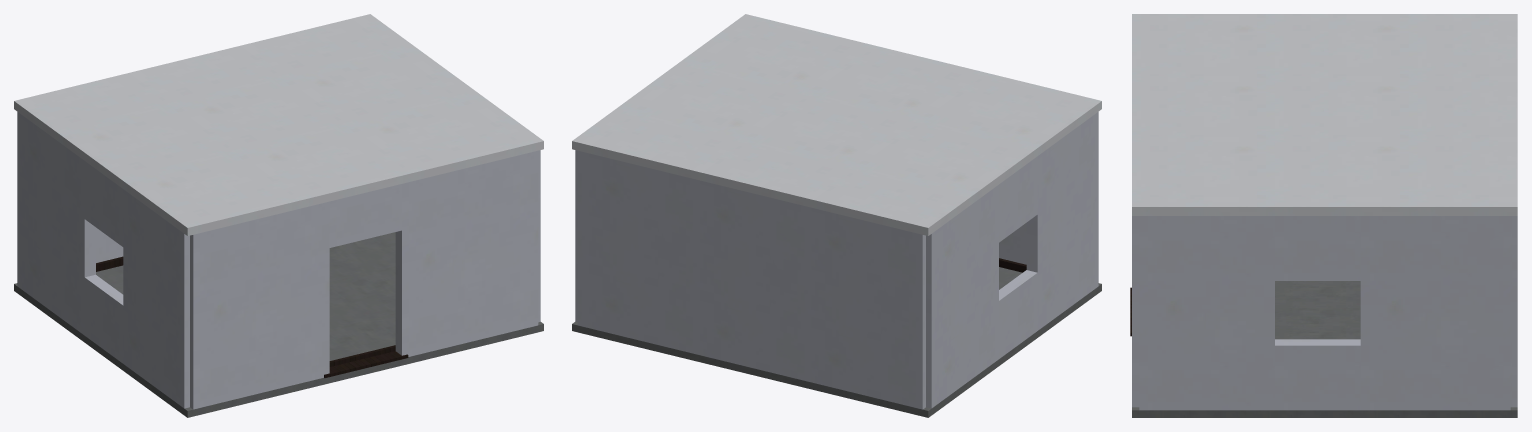
File: int_future_dome_01.glb
The picture shows the model from 3 angles, left to right: view 1: azimuth 30°, elevation 25°; view 2: azimuth 150°, elevation 25°; view 3: azimuth 270°, elevation 25°; orthographic projection. The views are drawn at different scales.
Parts seen in each view (by area): view 1: int_future_dome_01; view 2: int_future_dome_01; view 3: int_future_dome_01.
Part boxes in pixels (x1,y1,x2,y2): int_future_dome_01: [14, 14, 543, 417]; int_future_dome_01: [572, 14, 1101, 417]; int_future_dome_01: [1130, 14, 1517, 417].
Bounding box in the file's own units: 6.4 × 3.26 × 5.42.
Materials: 6 (4 with a texture image).
